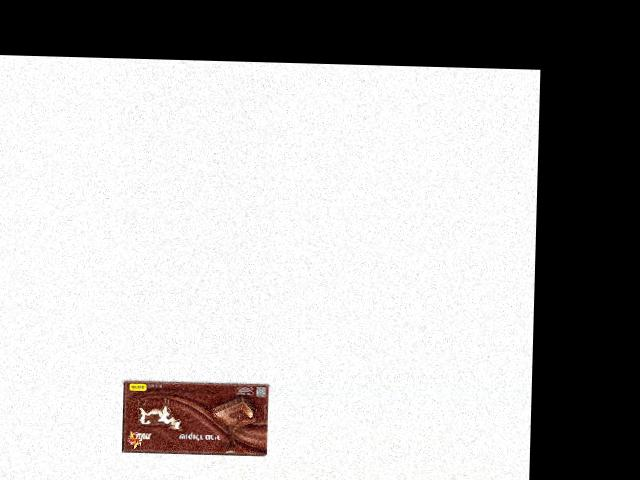chocolate: (118, 379, 267, 457)
